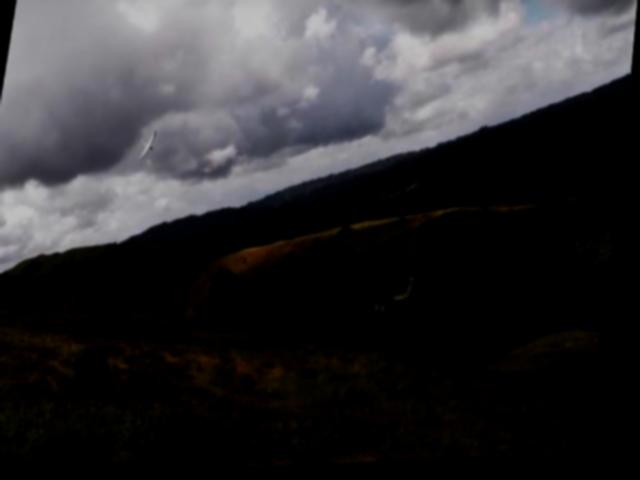iha: (140, 130, 160, 161)
